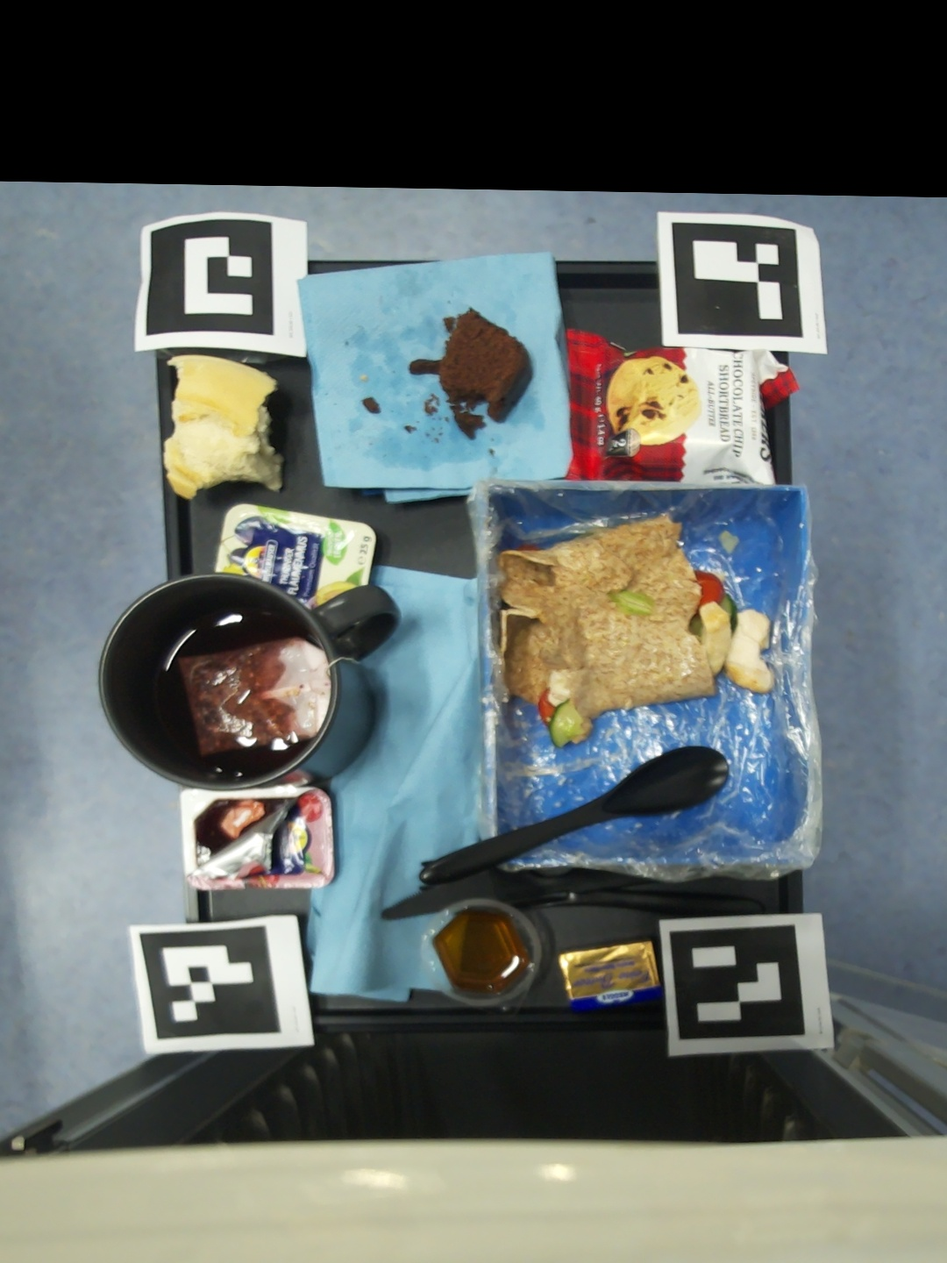bread_roll: (163, 355, 285, 499)
brownie: (409, 308, 532, 439), (363, 398, 381, 413)
butter: (559, 940, 661, 1012)
cherry_jam: (179, 786, 335, 890)
cookie: (565, 326, 800, 482)
honey: (421, 897, 539, 1015)
plum_jam: (215, 504, 376, 608)
tea_cup: (99, 574, 400, 790)
wrap_half_1: (497, 511, 774, 748), (718, 530, 740, 554)
